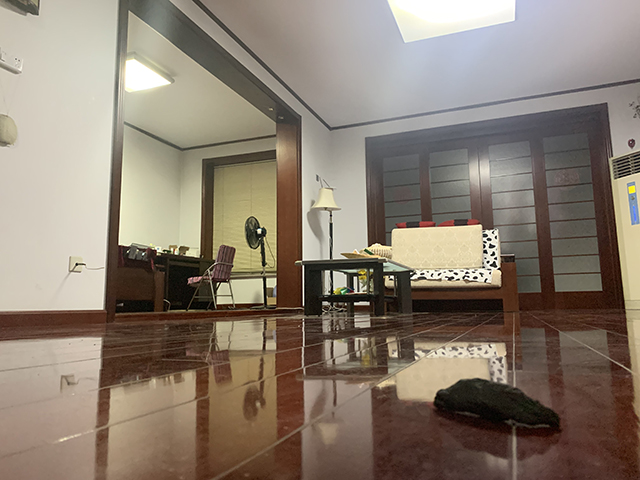bed: (117, 245, 167, 313)
feces: (431, 376, 562, 436)
sofa: (384, 218, 521, 314)
stool: (184, 244, 238, 312)
table: (155, 250, 218, 312)
wire: (275, 234, 346, 316), (163, 297, 174, 311)
